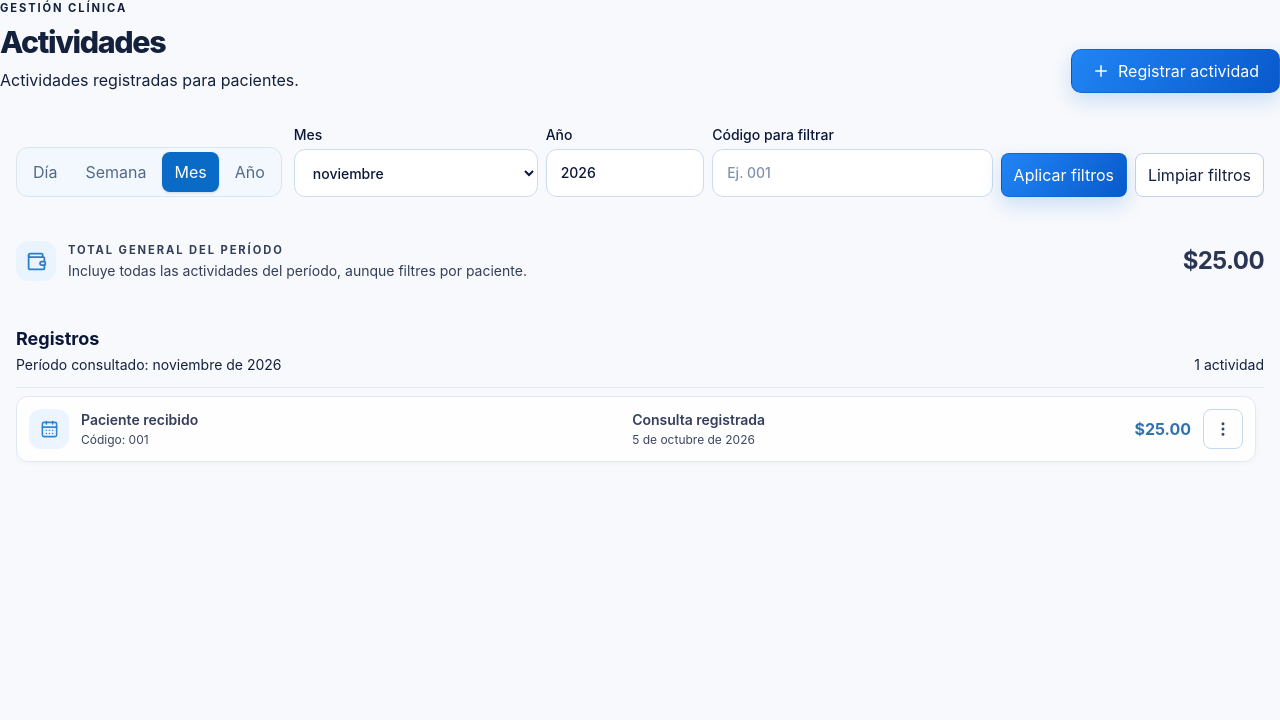
ActivitiesPage › closes Eliminar actividad with a local exit transition and restores the trigger focus
Later steps or results of the test are not shown.
Check: the text "Consulta registrada" is shown, box [632,411,765,428]
Click the button named "Opciones de actividad para Paciente recibido": [1223, 429] box [1203,409,1243,449]
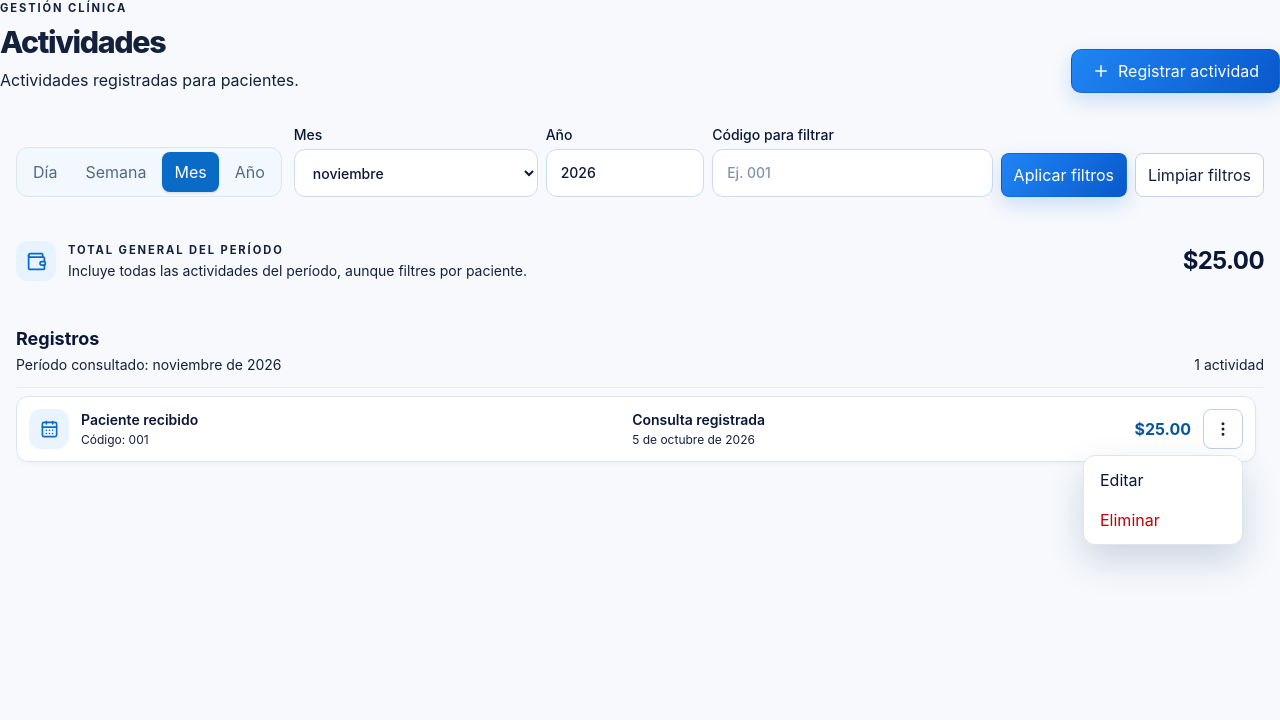
Click the menu item "Eliminar": [1163, 520] box [1088,500,1238,540]
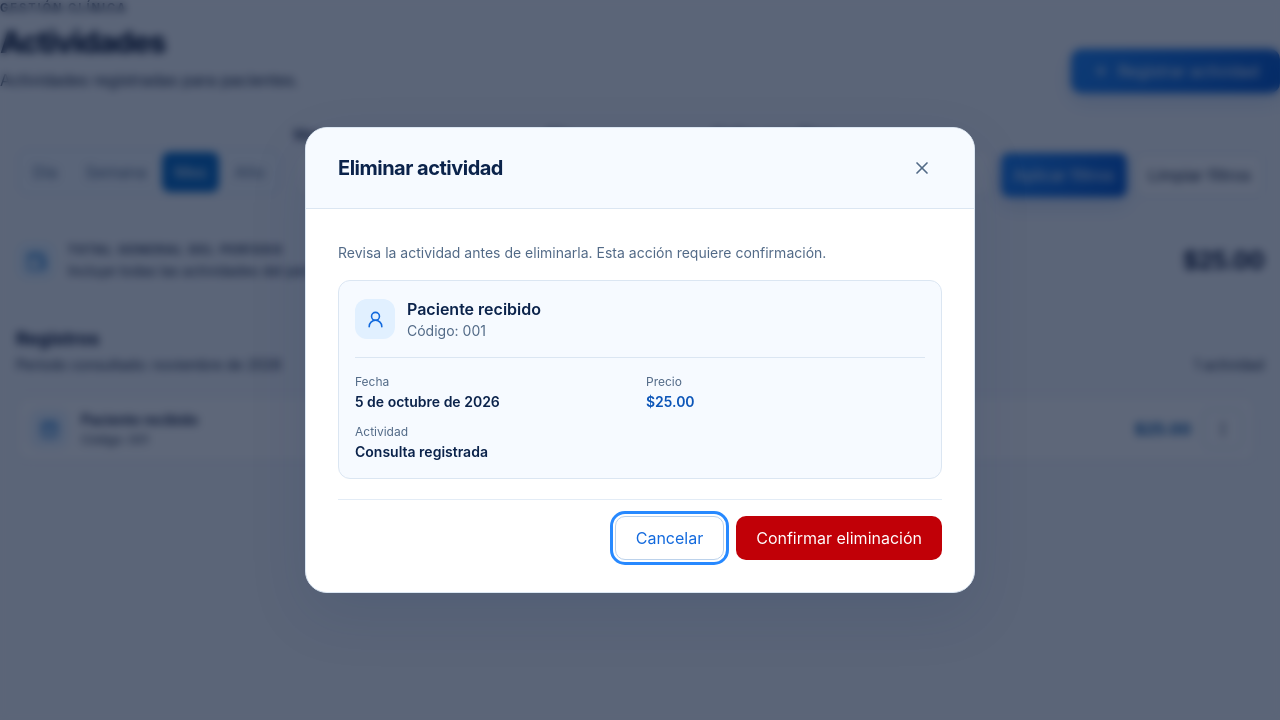
Press Escape
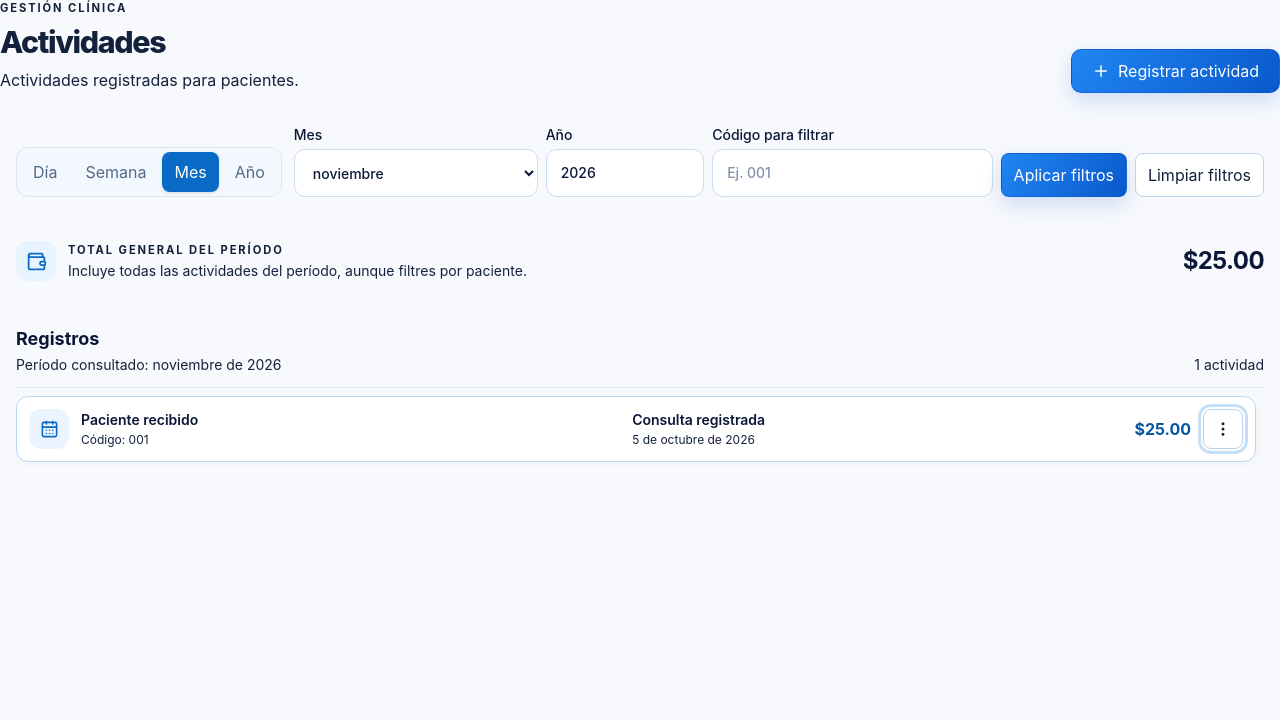
Check: the heading "Eliminar actividad" is gone
